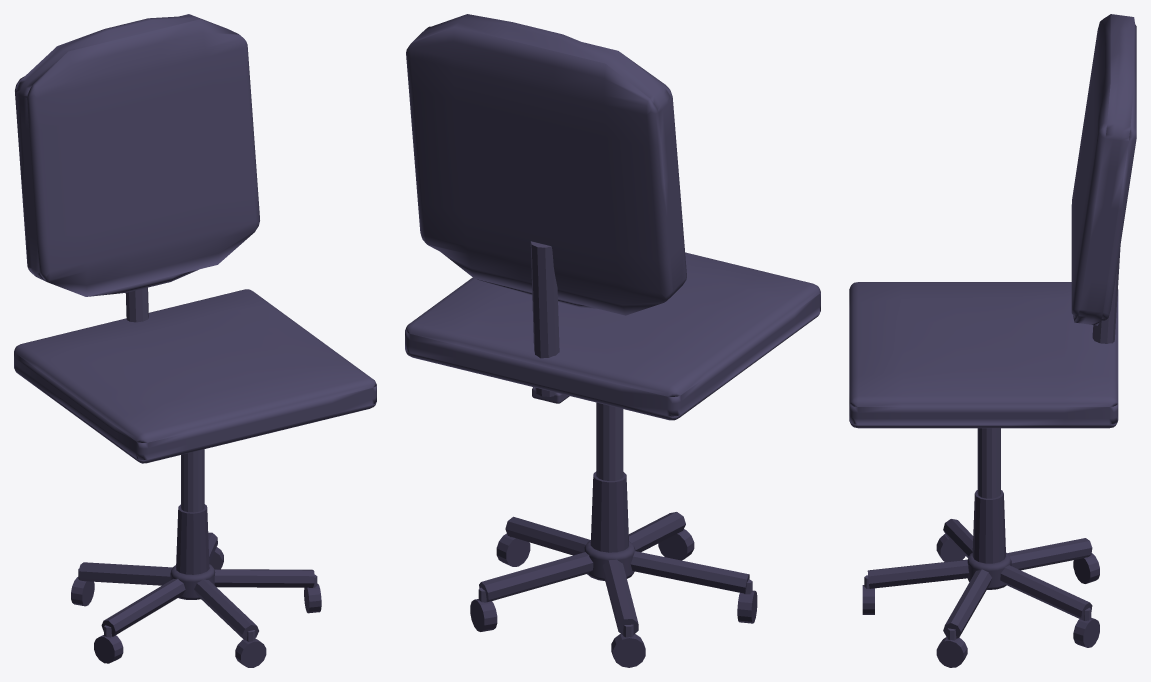
The model's file is chair_office.glb.
3 views of the same model, side by side, from view 1: azimuth 30°, elevation 25°; view 2: azimuth 150°, elevation 25°; view 3: azimuth 270°, elevation 25° (orthographic). The views are drawn at different scales.
Parts seen in each view (by area): view 1: chair_office; view 2: chair_office; view 3: chair_office.
Boxes of the visible parts, x1,y1,x2,y2 form: chair_office: (14,14,376,667); chair_office: (405,14,820,667); chair_office: (849,14,1136,667).
Bounding box in the file's own units: 0.5 × 1.1 × 0.5.
